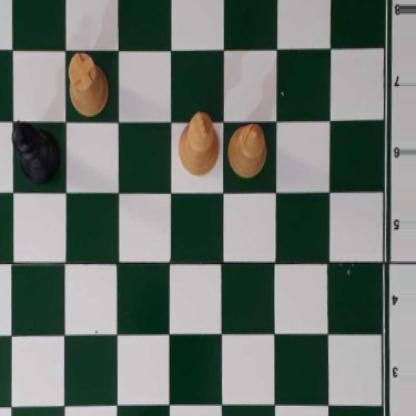black-king: (11, 118, 62, 185)
white-bishop: (229, 121, 265, 178)
white-king: (177, 109, 220, 177)
white-rook: (68, 51, 109, 117)
